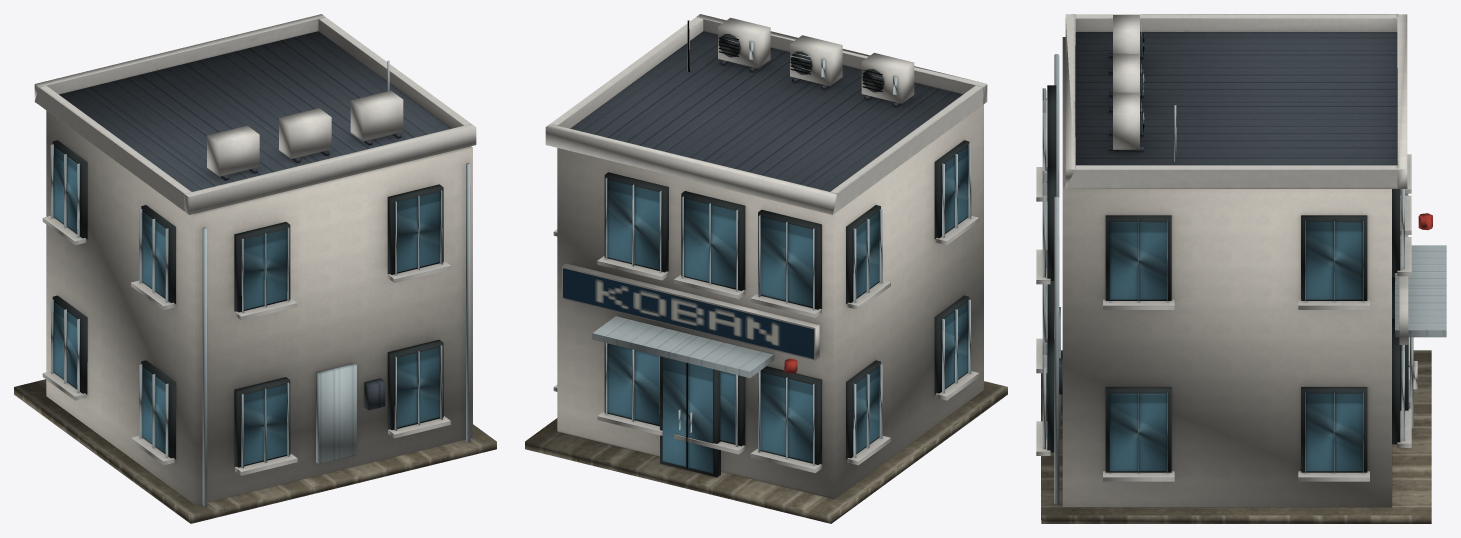
The model's file is public_006.obj.
The picture shows the model from 3 angles, left to right: view 1: azimuth 30°, elevation 25°; view 2: azimuth 150°, elevation 25°; view 3: azimuth 270°, elevation 25°; orthographic projection. The views are drawn at different scales.
Parts seen in each view (by area): view 1: public_006; view 2: public_006; view 3: public_006.
Boxes of the visible parts, <box> form: public_006: <box>14,14,496,523</box>; public_006: <box>525,14,1007,523</box>; public_006: <box>1036,14,1446,523</box>.
Bounding box in the file's own units: 6.4 × 7.1 × 6.72.
Materials: 1 (1 with a texture image).
